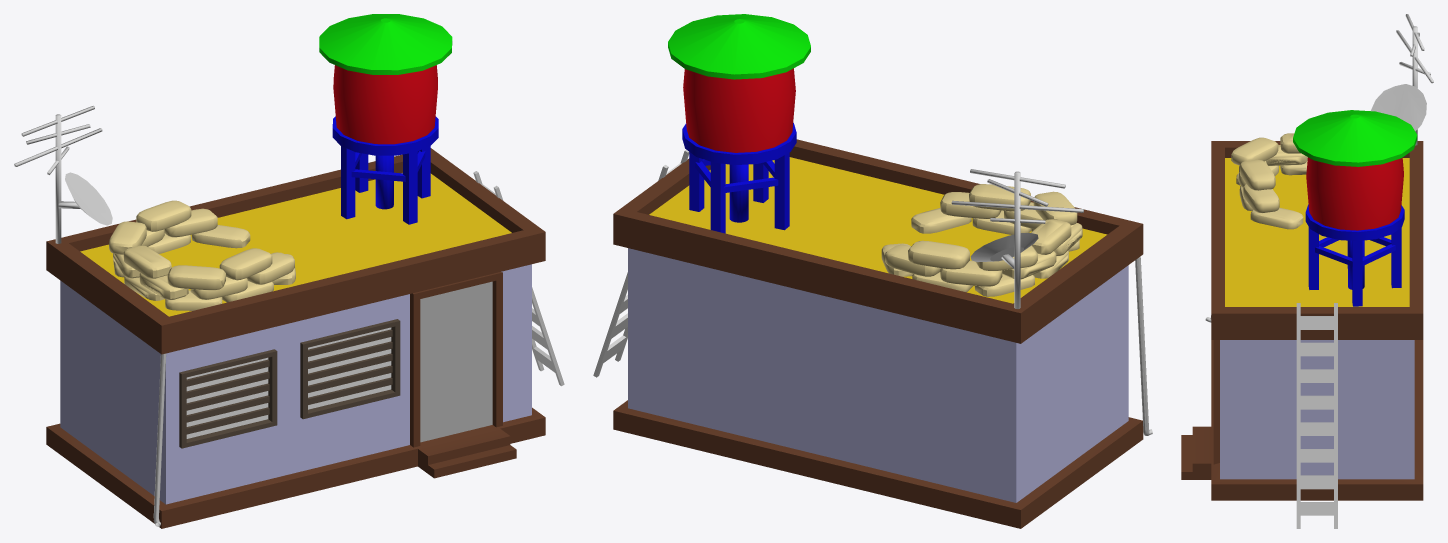
The picture shows the model from 3 angles, left to right: view 1: azimuth 30°, elevation 25°; view 2: azimuth 150°, elevation 25°; view 3: azimuth 270°, elevation 25°; orthographic projection. The views are drawn at different scales.
Parts seen in each view (by area): view 1: house; view 2: house; view 3: house.
Boxes of the visible parts, x1=… form: house: x1=14, y1=14, x2=564, y2=528; house: x1=593, y1=14, x2=1152, y2=528; house: x1=1181, y1=14, x2=1433, y2=528.
Size of the model in its own units: 540 by 394 by 260.
